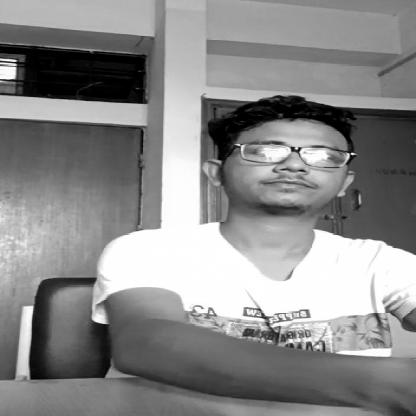Normal: (195, 94, 390, 215)
